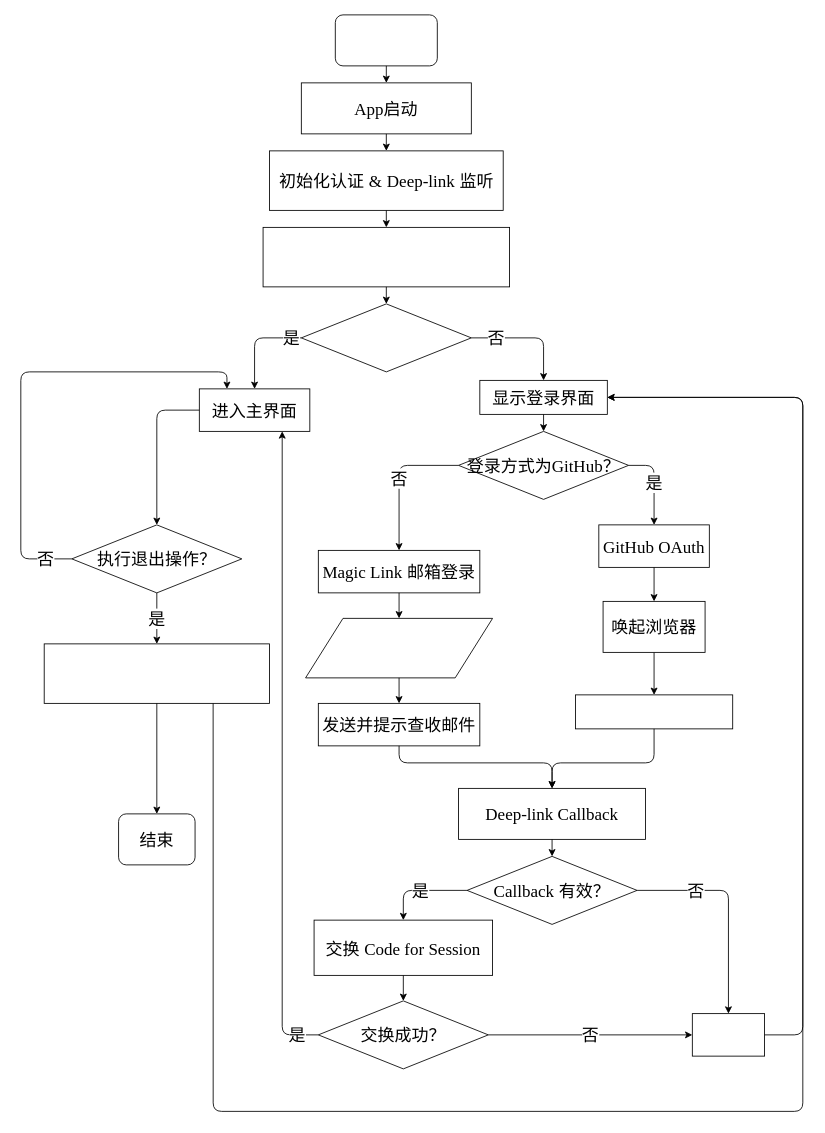
The diagram is 825 pixels wide and 1133 high, and some of its shapes have lost their labels. The shapes that lost their labels are listed below. From the top down, each one's centre as x and y in pixels, then its label:
[385,40]: 开始
[386,257]: 检查本地 Session
[385,337]: Session 有效？
[399,648]: 输入邮箱
[156,673]: signOut 清空状态并返回登录
[654,711]: 等待 Callback
[728,1034]: 报错
